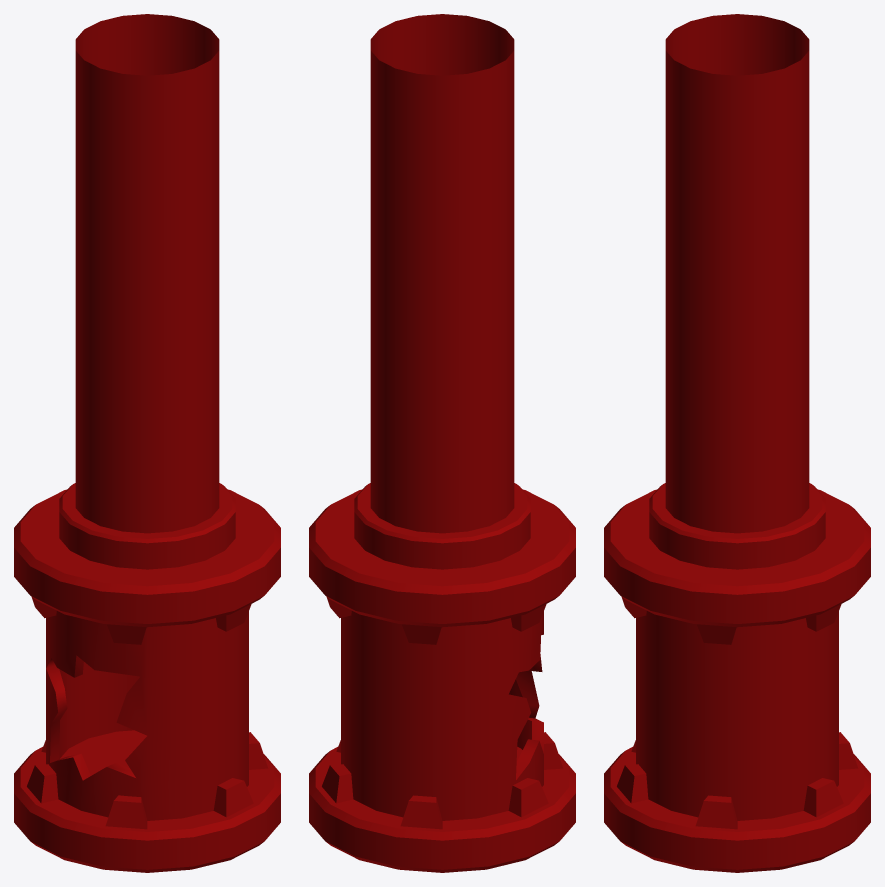
File: ContainerTall2.fbx
3 renders of one model, left to right at view 1: azimuth 30°, elevation 25°; view 2: azimuth 150°, elevation 25°; view 3: azimuth 270°, elevation 25°, orthographic.
Parts seen in each view (by area): view 1: Cylinder010, SlimeContainerGlass; view 2: Cylinder010, SlimeContainerGlass; view 3: Cylinder010, SlimeContainerGlass.
Part boxes in pixels (box(x1,y1,x2,y2)): Cylinder010: box(14, 14, 280, 872); SlimeContainerGlass: box(46, 611, 248, 820); Cylinder010: box(309, 14, 575, 872); SlimeContainerGlass: box(341, 611, 543, 820); Cylinder010: box(604, 14, 870, 872); SlimeContainerGlass: box(636, 611, 838, 820).
Bounding box in the file's own units: 41.96 × 132 × 41.32.
